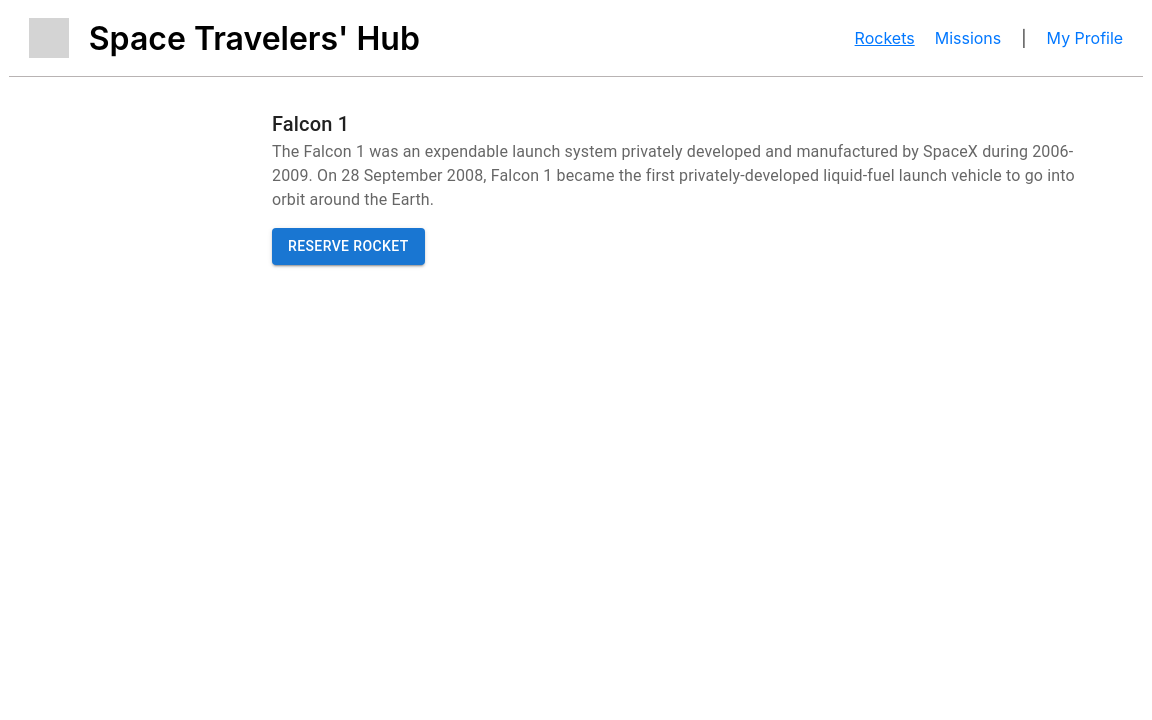
it: App › navigates to Missions and displays missions
The image size is (1152, 720).
Click the link "Missions": click(968, 38) [935,28,1001,48]
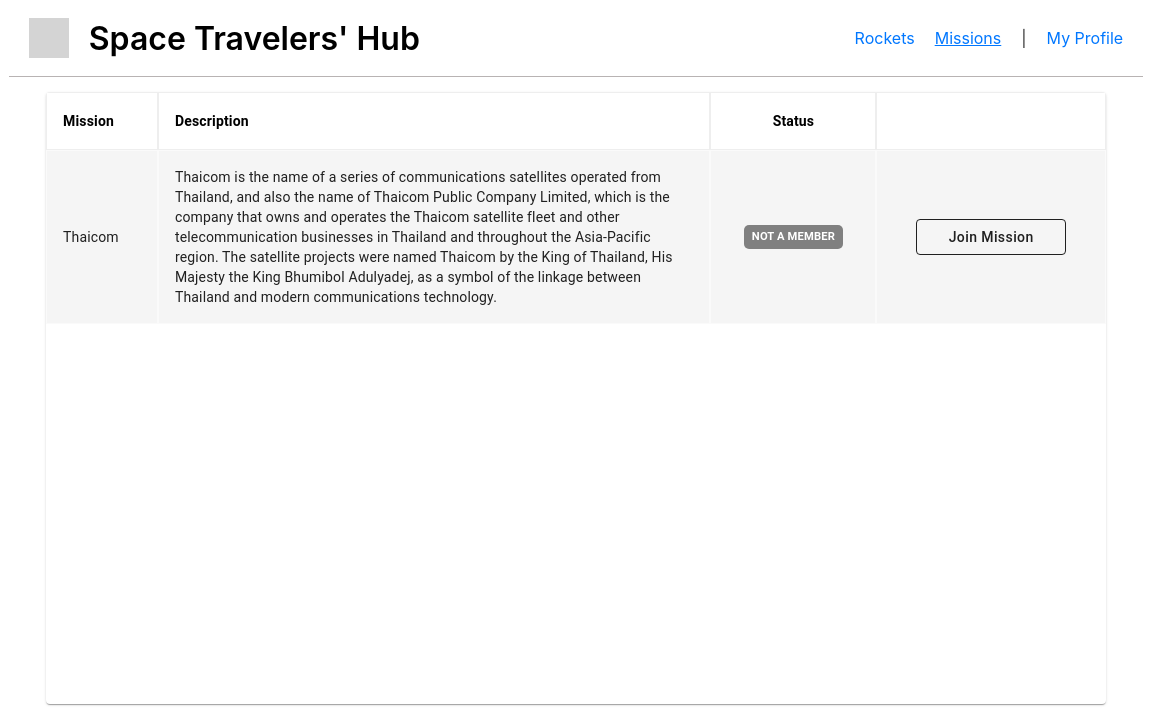
Check: the text "Thaicom" is shown, box [46,150,158,324]
